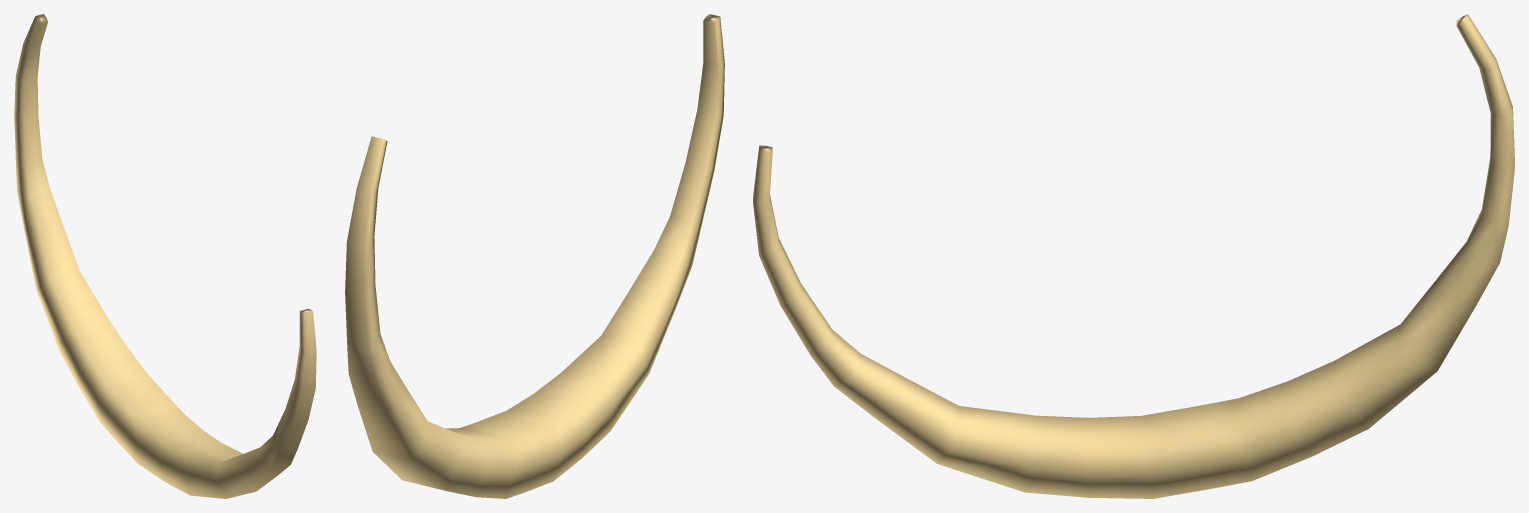
The model's file is NeanderBoneRibs1.obj.
The picture shows the model from 3 angles, left to right: view 1: azimuth 30°, elevation 25°; view 2: azimuth 150°, elevation 25°; view 3: azimuth 270°, elevation 25°; orthographic projection. The views are drawn at different scales.
Parts seen in each view (by area): view 1: pCube15; view 2: pCube15; view 3: pCube15.
Part boxes in pixels (x1,y1,x2,y2): pCube15: (14,14,316,498); pCube15: (345,14,724,498); pCube15: (753,14,1514,498).
Size of the model in its own units: 0.8689 by 5.78 by 8.52.
